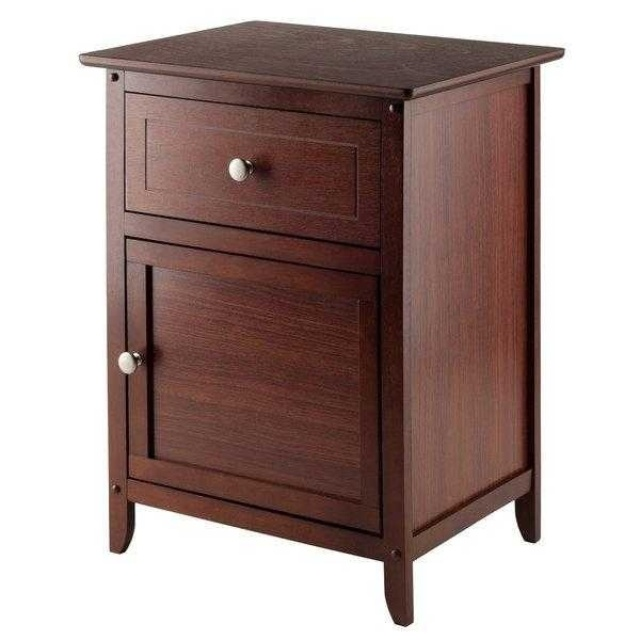obstacle: (81, 21, 562, 624)
